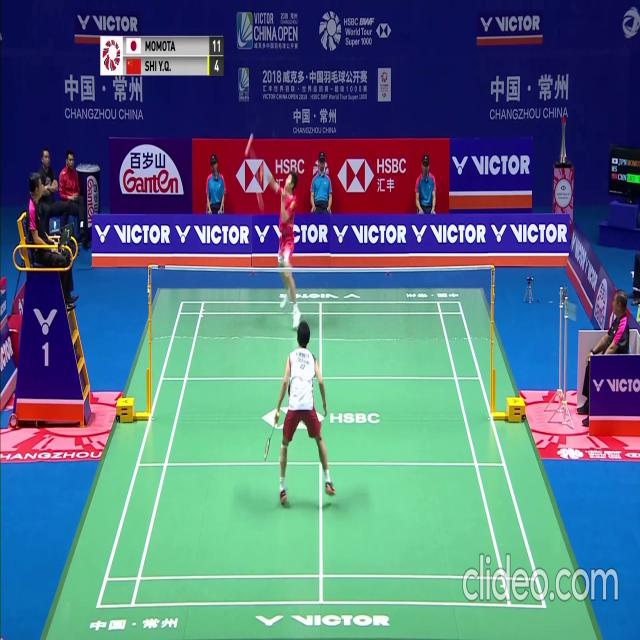Shuttlecock: (245, 147, 249, 155)
